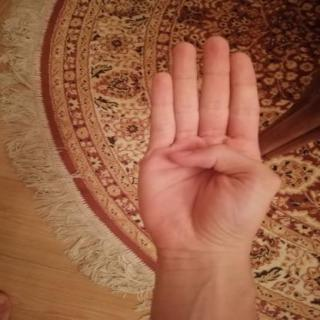KAAF: (125, 25, 290, 267)
